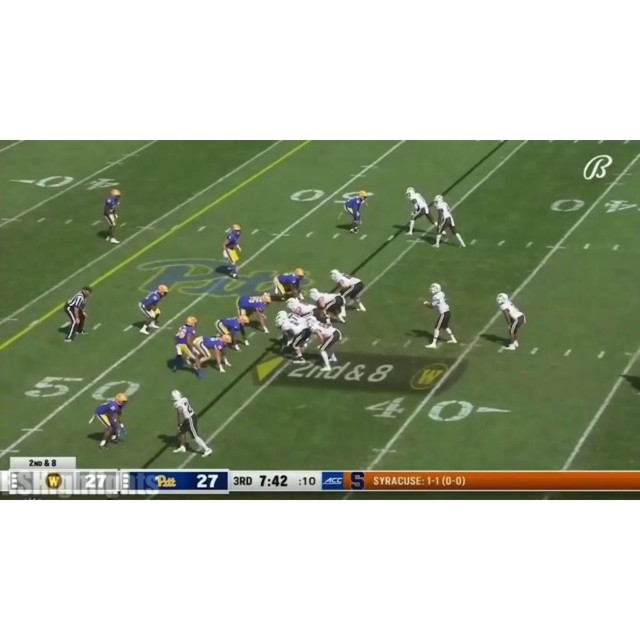american-football-player: (170, 390, 212, 457), (422, 283, 457, 348), (92, 392, 129, 451), (306, 316, 342, 371), (431, 195, 467, 249), (273, 313, 311, 363), (168, 316, 200, 374), (495, 292, 526, 351), (404, 185, 438, 236), (192, 333, 233, 374), (329, 269, 367, 313), (236, 293, 272, 334), (138, 284, 168, 333), (214, 315, 252, 351), (309, 288, 347, 324), (342, 190, 370, 234), (222, 223, 243, 278), (101, 189, 122, 243), (272, 268, 306, 301), (286, 298, 320, 320)
referee: (63, 284, 93, 344)
